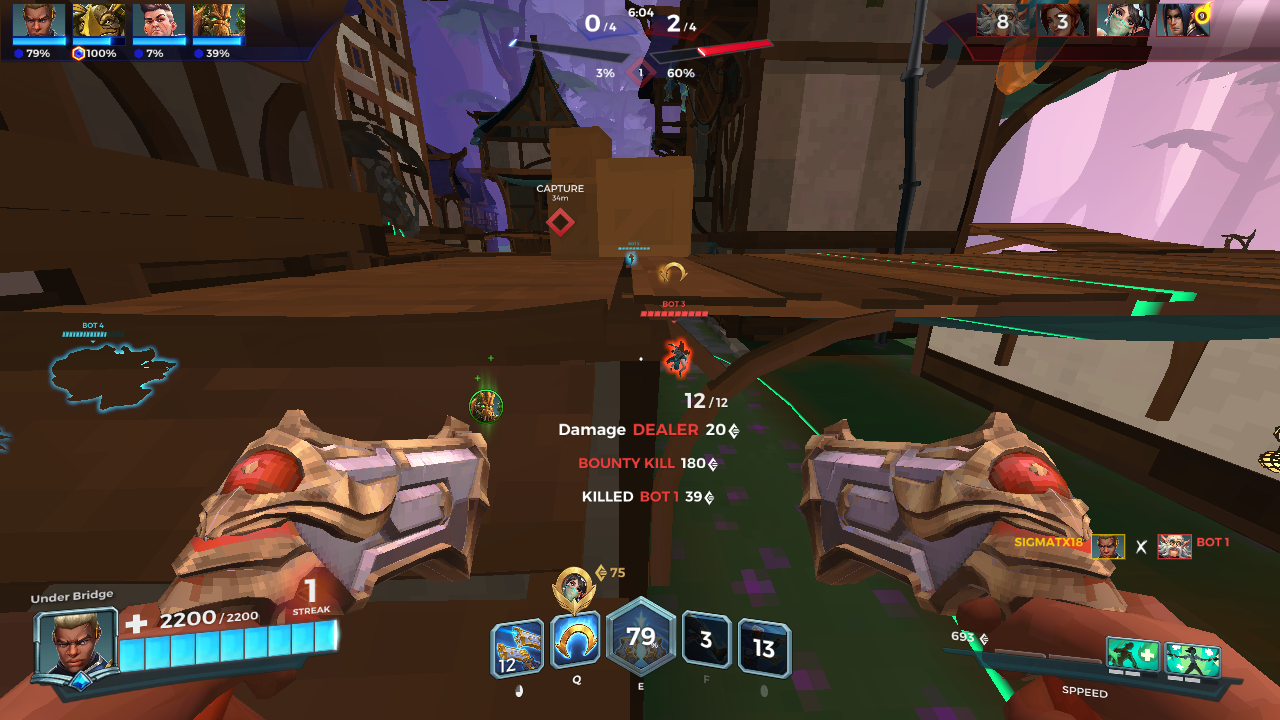model: (664, 329, 692, 380)
